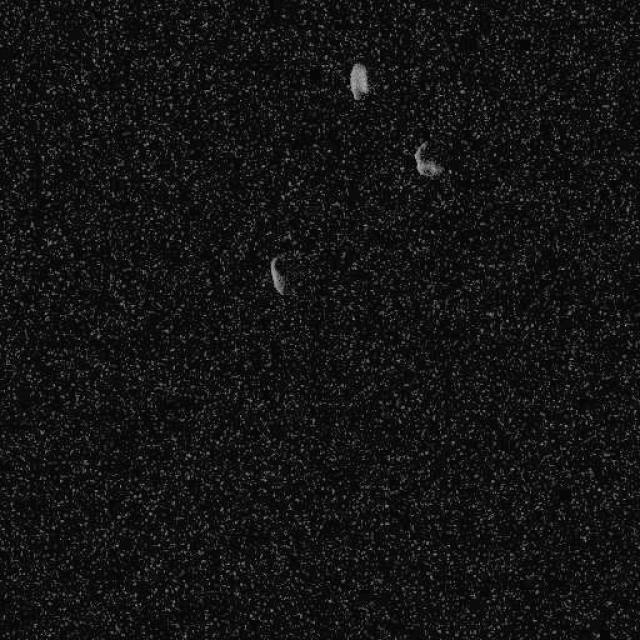D2: (412, 140, 443, 178), (348, 61, 370, 101), (268, 255, 288, 296)
